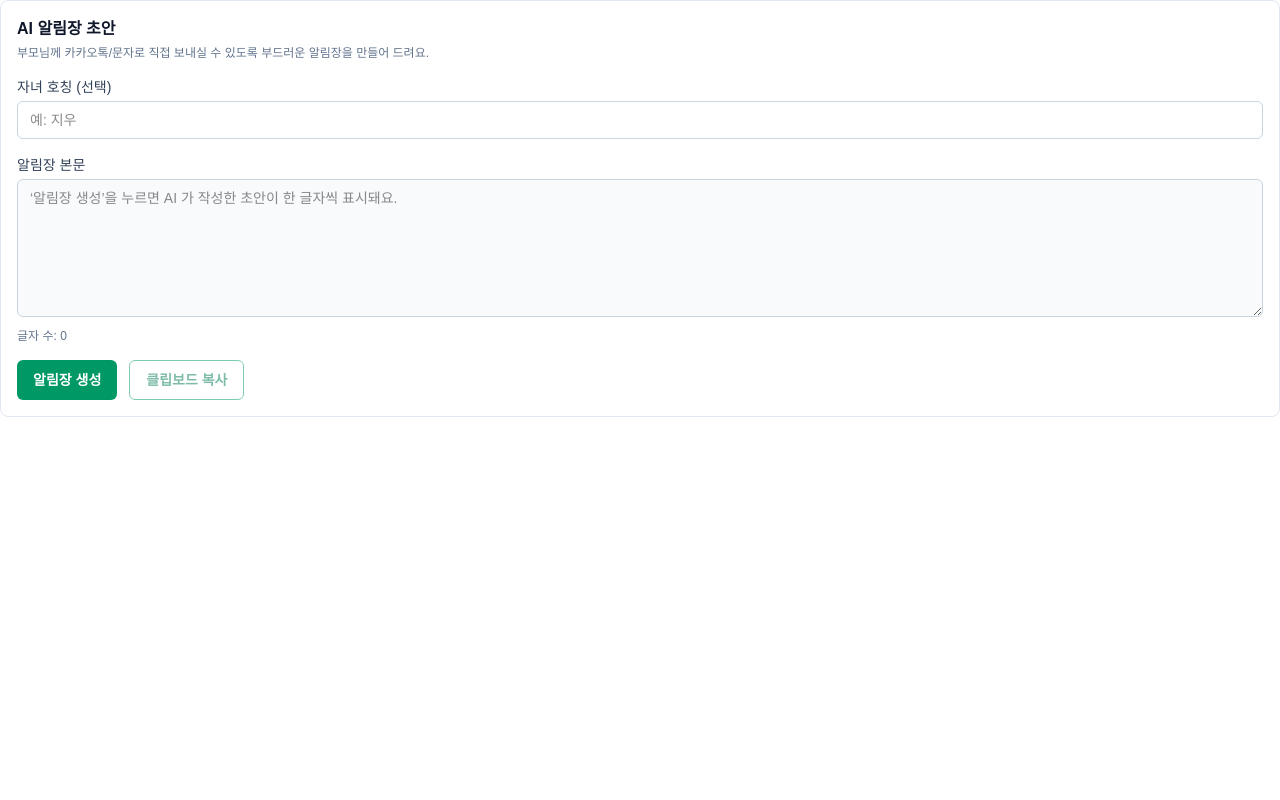
Test: CushionNoteGenerator (email) › scenario 6: Server Action 가 skipped: true 반환 → error 메시지 + emailSkipped:true 이벤트
Click the button with test id "cushion-generate-button" at (67, 380), box [17,360,117,400]
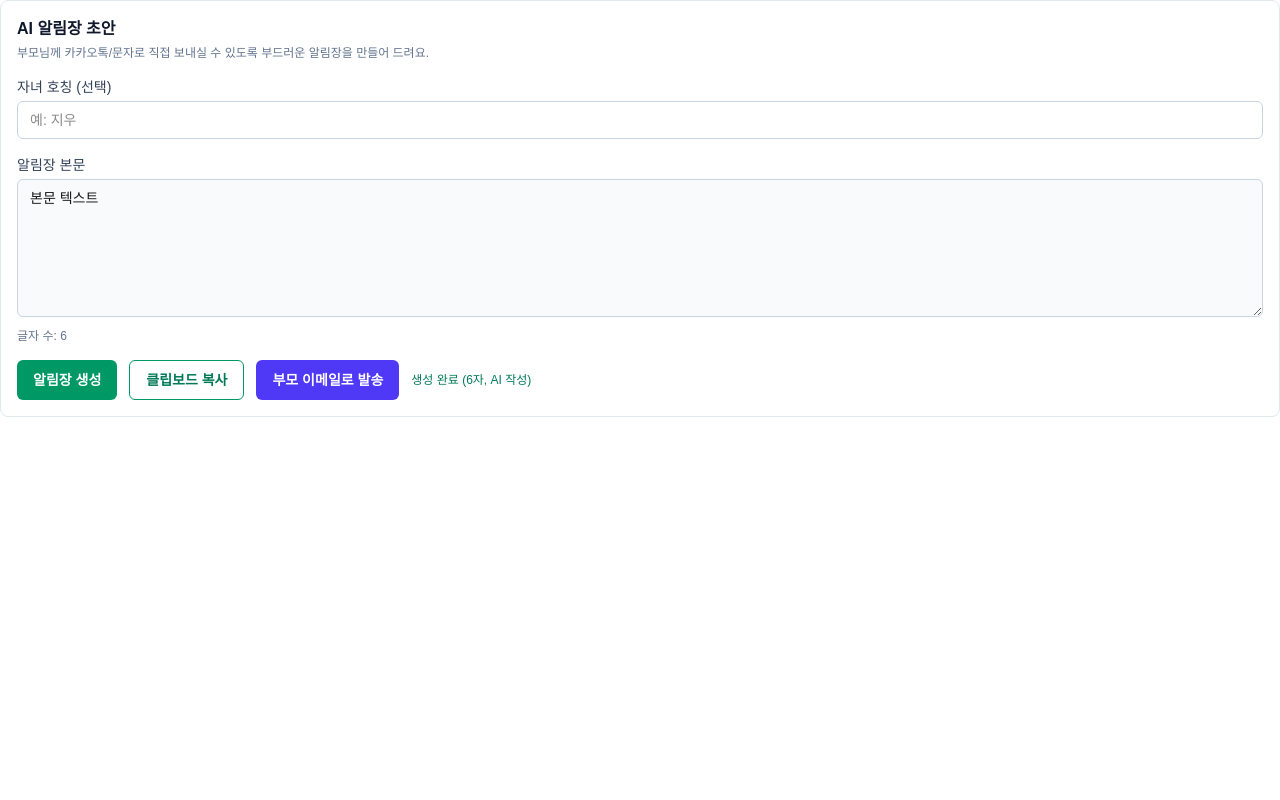
Check: the text "생성 완료 (6자, AI 작성)" is shown, box [411,372,531,388]
Click the button with test id "cushion-email-button" at (328, 380), box [256,360,399,400]
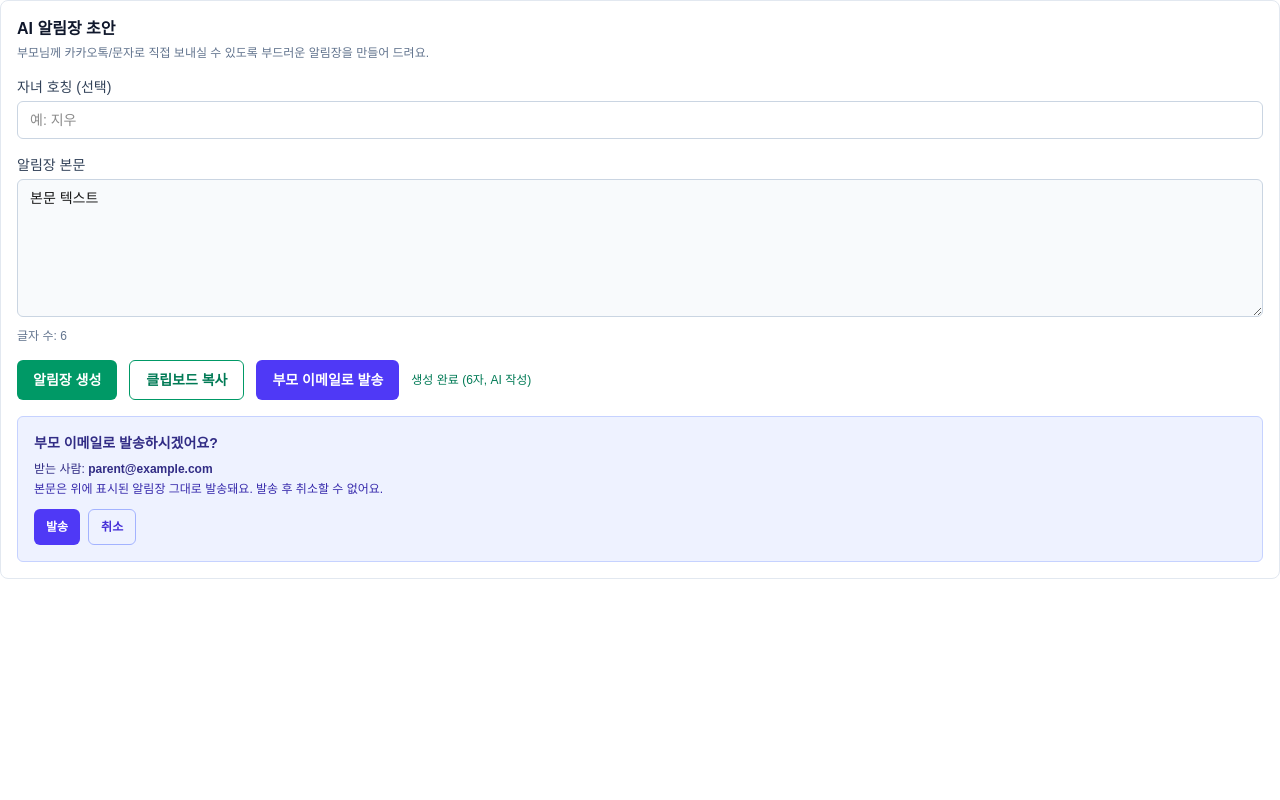
Check: the dialog with test id "cushion-email-confirm-dialog" is shown, box [17,416,1263,562]
Click the button with test id "cushion-email-confirm-button" at (57, 527), box [34,509,80,545]
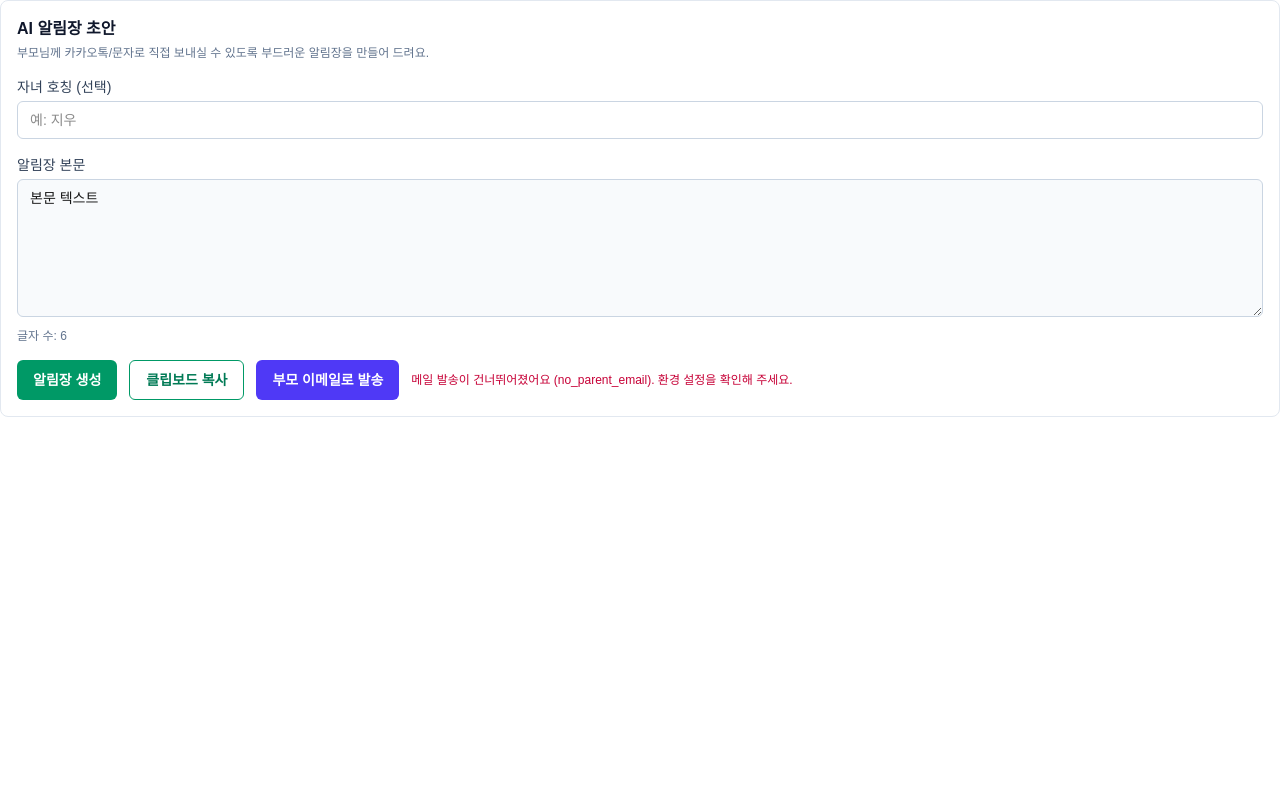
Check: the message "메일 발송이 건너뛰어졌어요 (no_parent_email). 환경 설정을 확인해 주세요." is shown, box [411,372,793,388]
